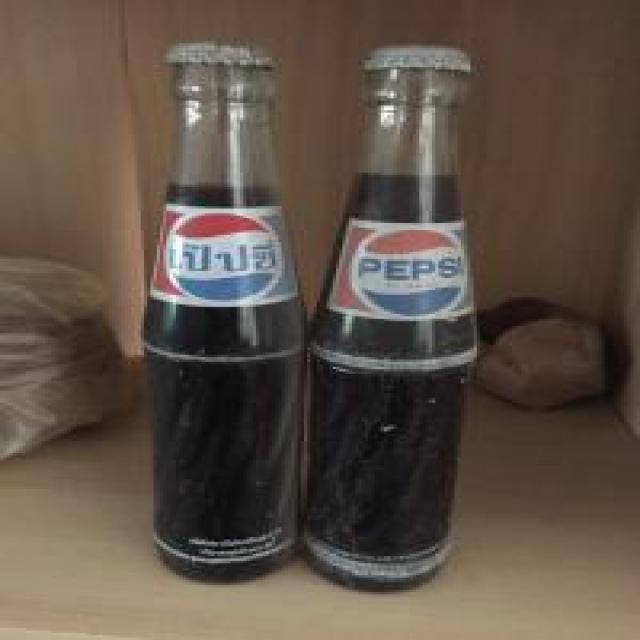glass-bottle: (124, 27, 504, 603)
